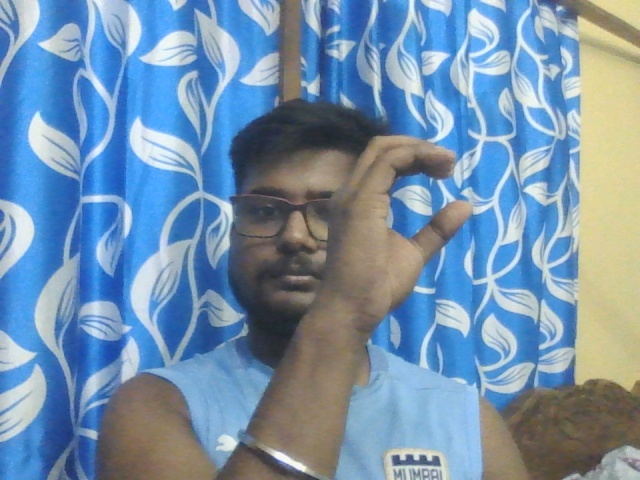C: (328, 138, 472, 317)
